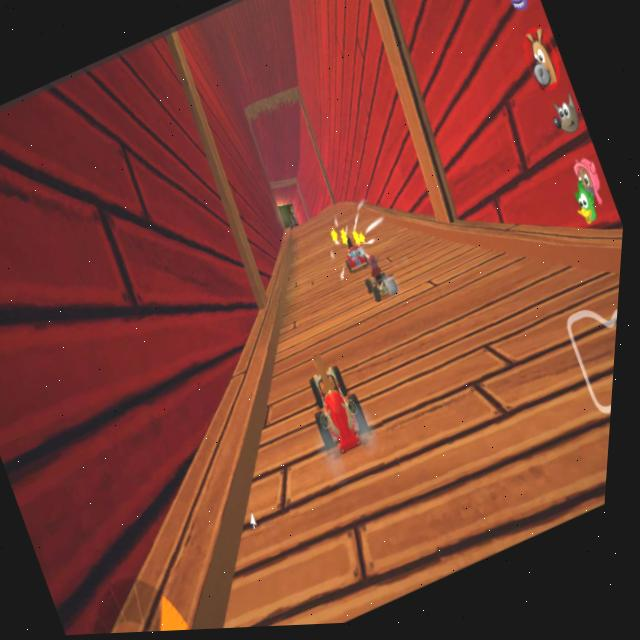player_kart: (292, 348, 389, 478), (356, 251, 414, 320)
track: (345, 250, 617, 505), (265, 209, 372, 368)
